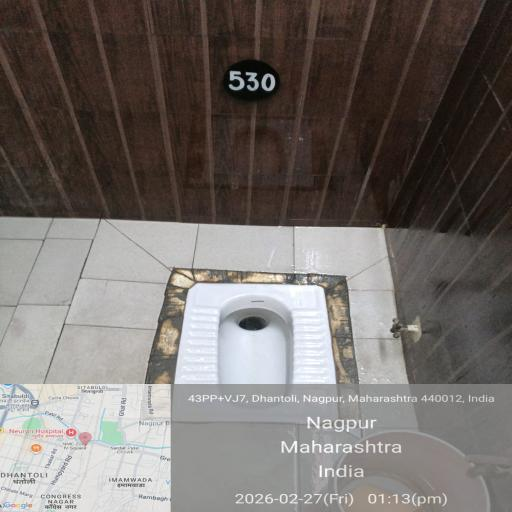clean_floor: (23, 228, 479, 506), (33, 24, 480, 255)
clean_indian: (155, 278, 373, 426)
